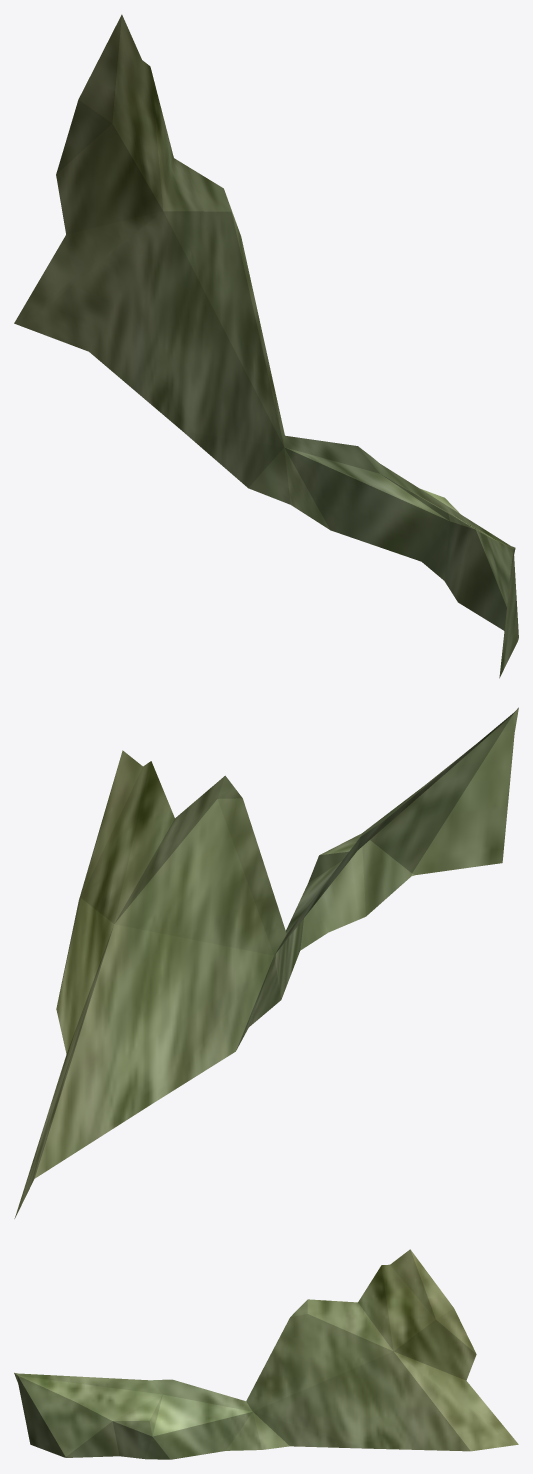
3 views of the same model, one above another, from view 1: azimuth 30°, elevation 25°; view 2: azimuth 150°, elevation 25°; view 3: azimuth 270°, elevation 25° (orthographic). The views are drawn at different scales.
Bounding box in the file's own units: 0.1774 × 0.9143 × 2.14.
1 material, 1 textured.
